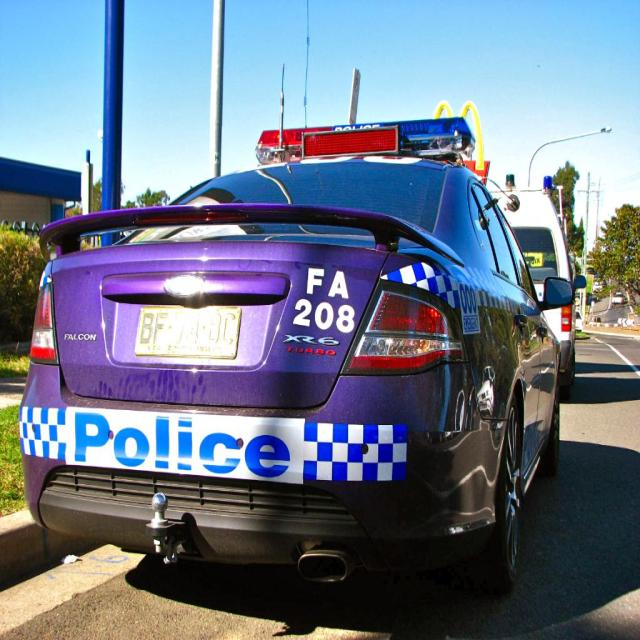car: (19, 113, 562, 590)
